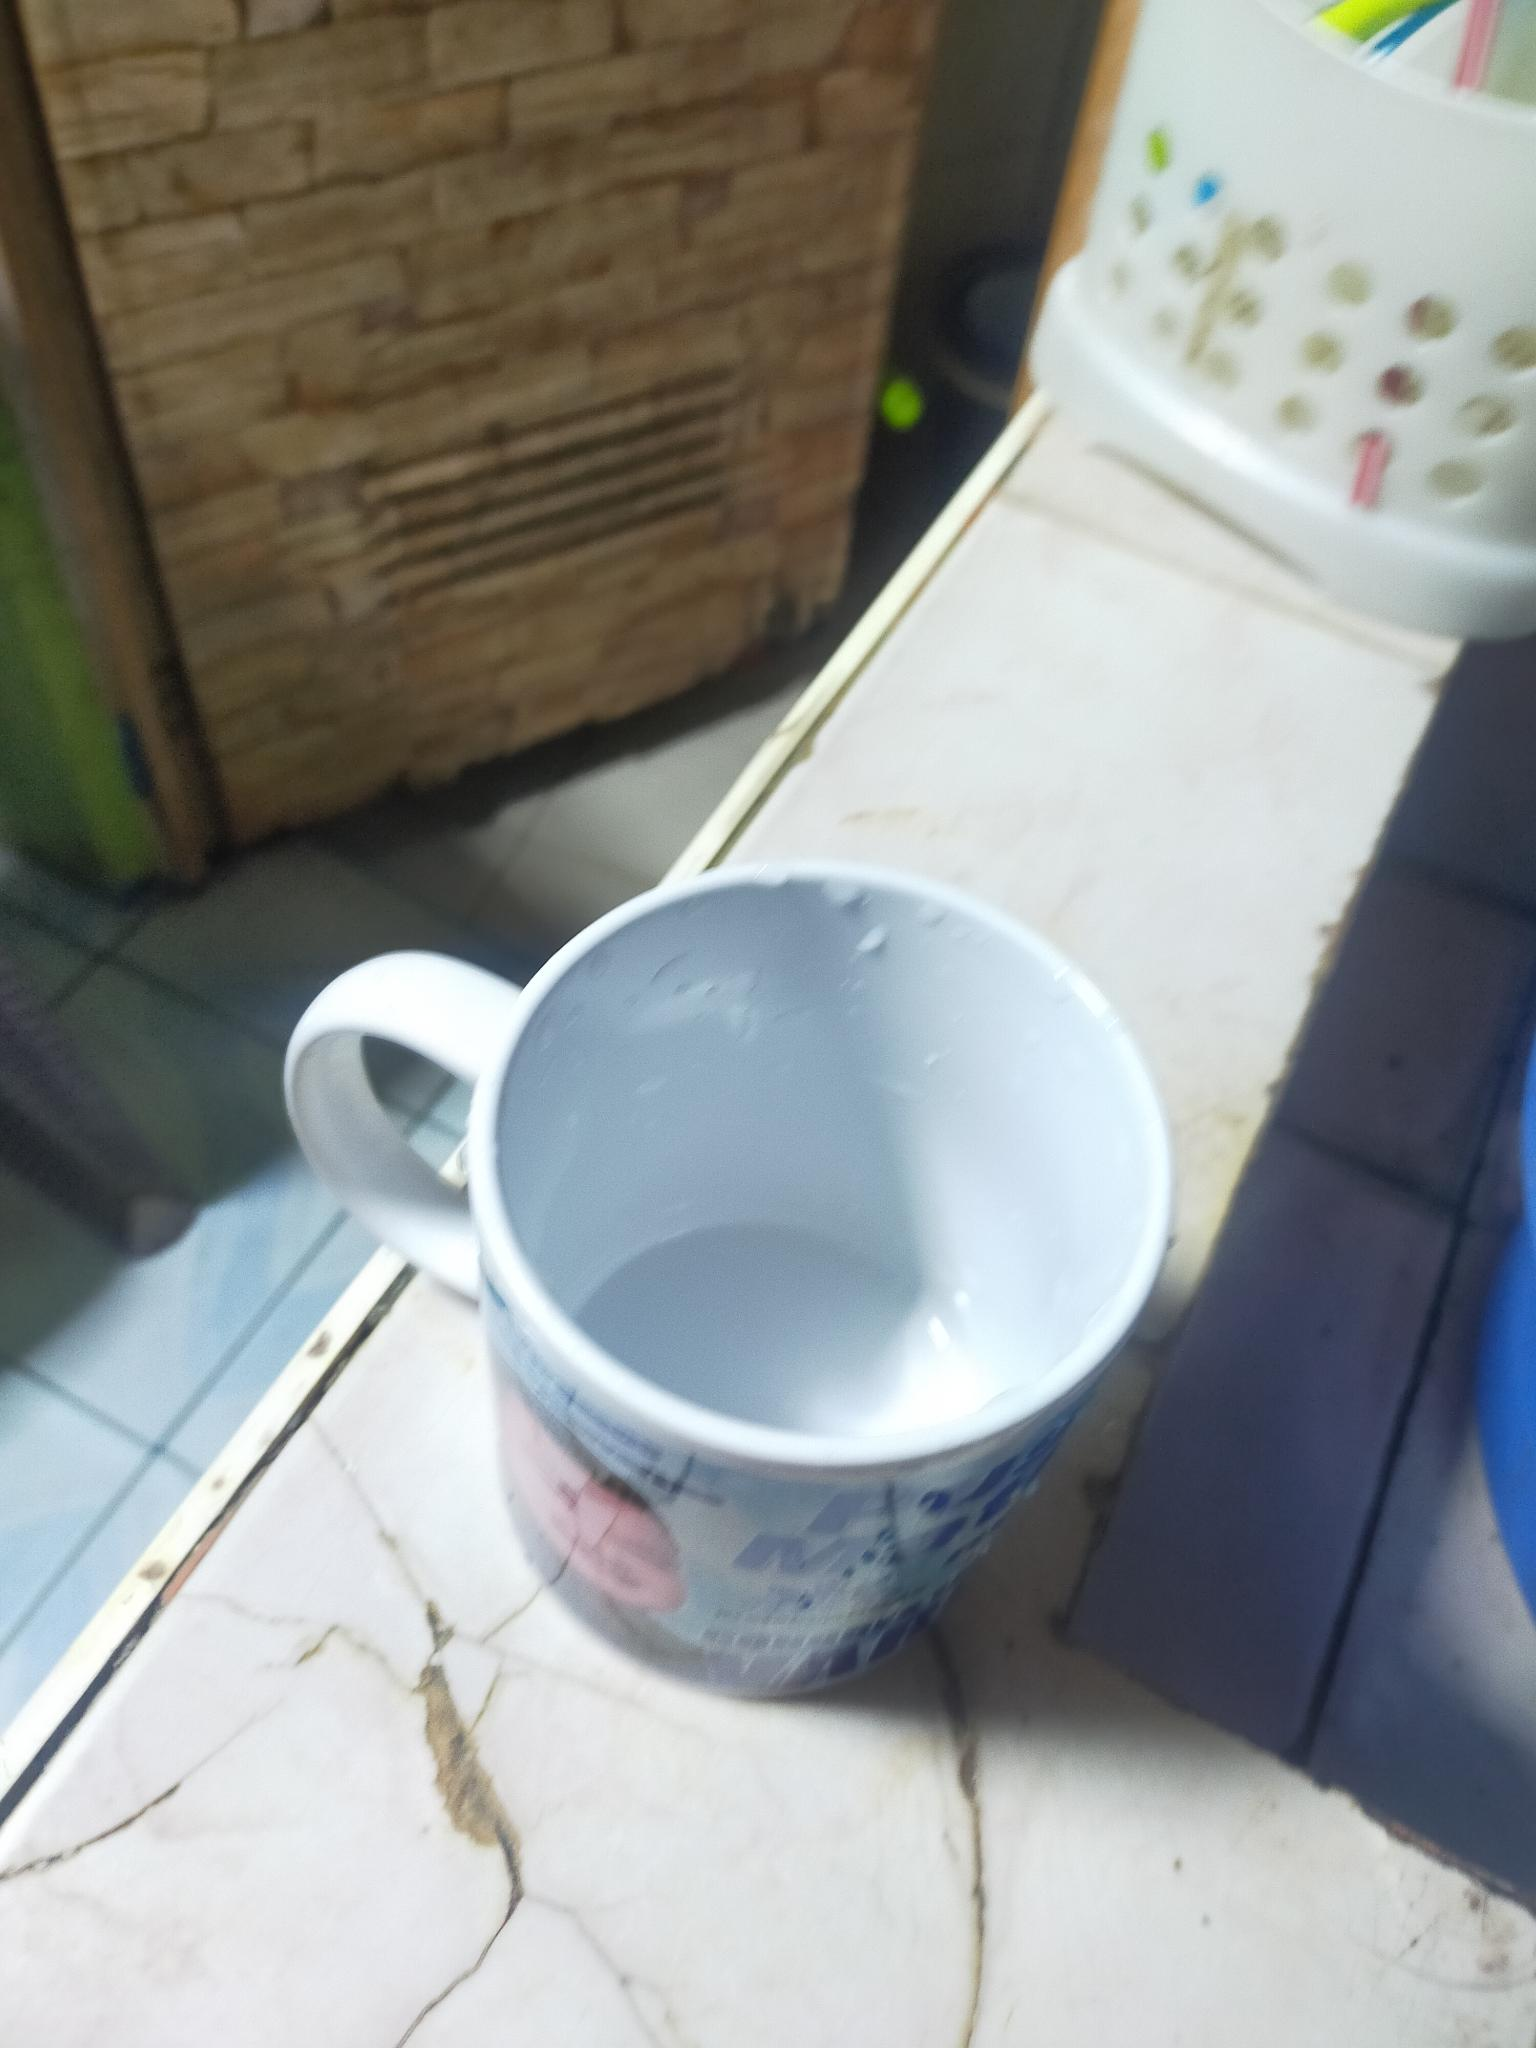Coffee Mug: (282, 866, 1171, 1695)
